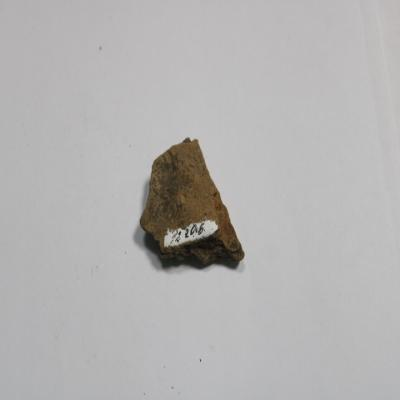archeology: (138, 139, 246, 271)
